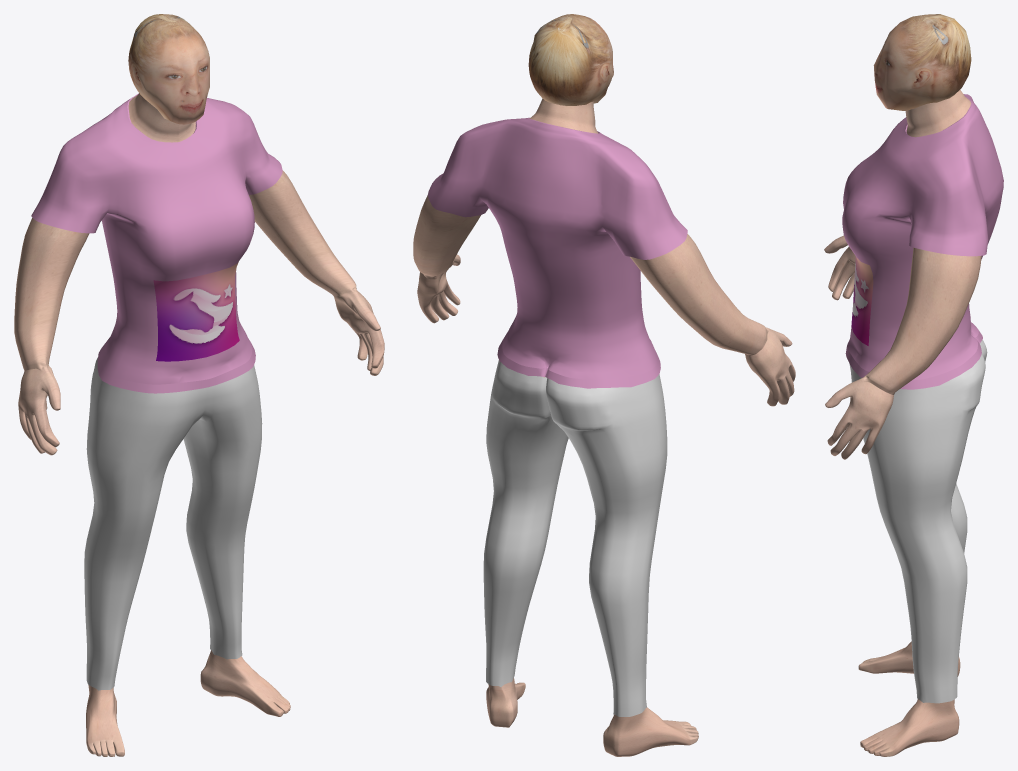
File: Kvina.fbx
3 views of the same model, side by side, from view 1: azimuth 30°, elevation 25°; view 2: azimuth 150°, elevation 25°; view 3: azimuth 270°, elevation 25° (orthographic). The views are drawn at different scales.
Parts seen in each view (by area): view 1: pasted__group4, pasted__Head; view 2: pasted__group4, pasted__Head; view 3: pasted__group4, pasted__Head.
Boxes of the visible parts, x1,y1,x2,y2 form: pasted__group4: (14, 93, 384, 756); pasted__Head: (128, 14, 209, 124); pasted__group4: (413, 98, 795, 756); pasted__Head: (528, 14, 613, 105); pasted__group4: (824, 90, 1003, 756); pasted__Head: (873, 14, 971, 110).
Bounding box in the file's own units: 5.9 × 11.23 × 2.64.
Materials: 5 (3 with a texture image).
